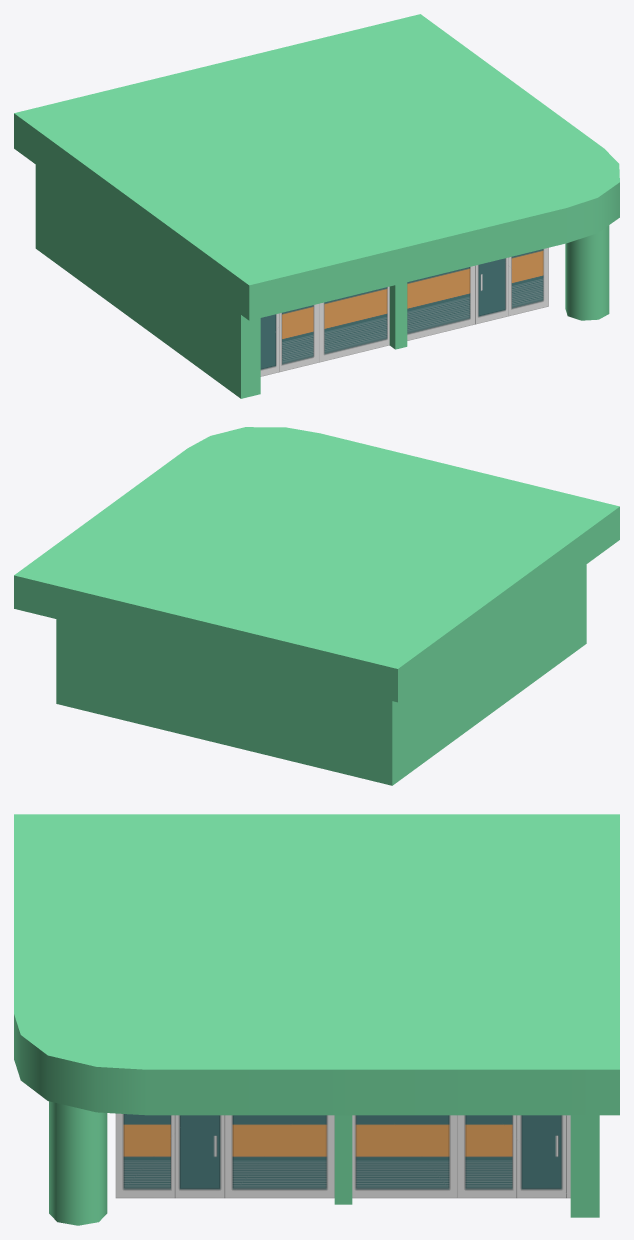
File: Town_Bld-Med_BaseB.FBX
3 views of the same model, one above another, from view 1: azimuth 30°, elevation 25°; view 2: azimuth 150°, elevation 25°; view 3: azimuth 270°, elevation 25° (orthographic). The views are drawn at different scales.
Parts seen in each view (by area): view 1: Town_Bld-Med_BaseB; view 2: Town_Bld-Med_BaseB; view 3: Town_Bld-Med_BaseB.
Boxes of the visible parts, x1=… form: Town_Bld-Med_BaseB: x1=14, y1=14, x2=619, y2=398; Town_Bld-Med_BaseB: x1=14, y1=427, x2=619, y2=785; Town_Bld-Med_BaseB: x1=14, y1=814, x2=619, y2=1225.
Size of the model in its own units: 685 by 214 by 687.
